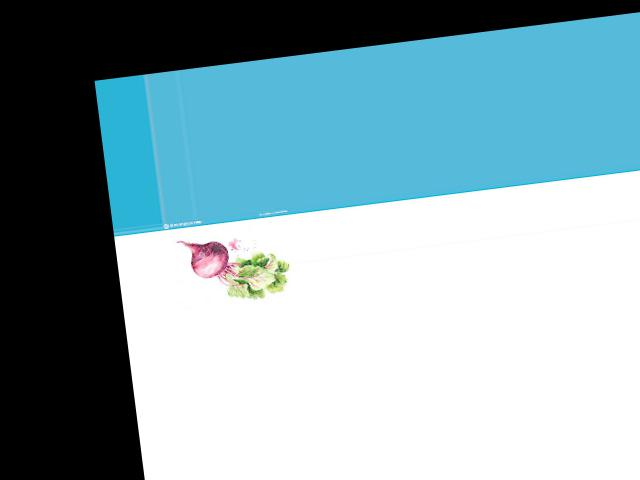beet: (176, 226, 294, 308)
